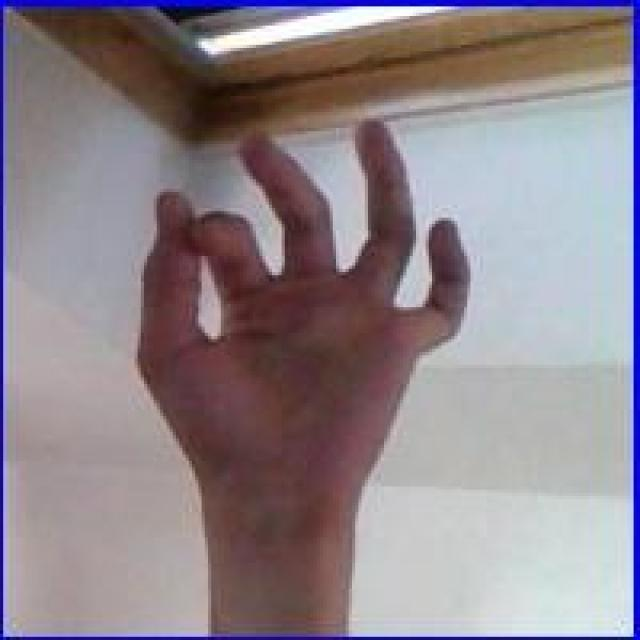F: (131, 110, 474, 492)
